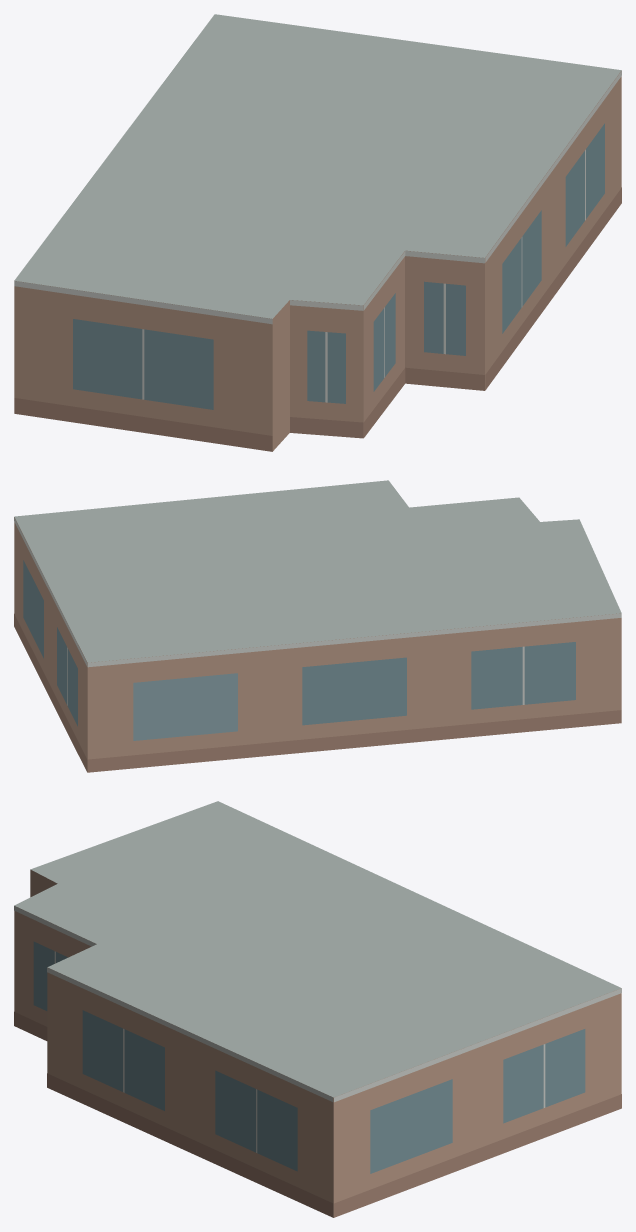
The model's file is survey-upis-32916304.glb.
The picture shows the model from 3 angles, top to bottom: view 1: azimuth 30°, elevation 25°; view 2: azimuth 150°, elevation 25°; view 3: azimuth 270°, elevation 25°; orthographic projection. The views are drawn at different scales.
Visible parts, largest first — view 1: survey-upis-32916304.tmp; view 2: survey-upis-32916304.tmp; view 3: survey-upis-32916304.tmp.
Boxes of the visible parts, box(x1,y1,x2,y2) form: survey-upis-32916304.tmp: box(14, 14, 621, 451); survey-upis-32916304.tmp: box(14, 480, 621, 772); survey-upis-32916304.tmp: box(14, 801, 621, 1217).
Bounding box in the file's own units: 16.13 × 3.05 × 13.97.
